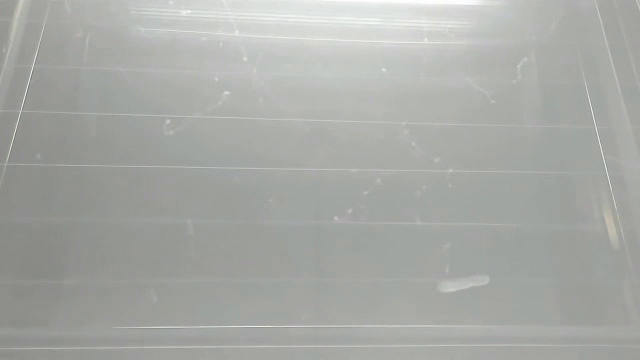alpha: (433, 272, 491, 294)
